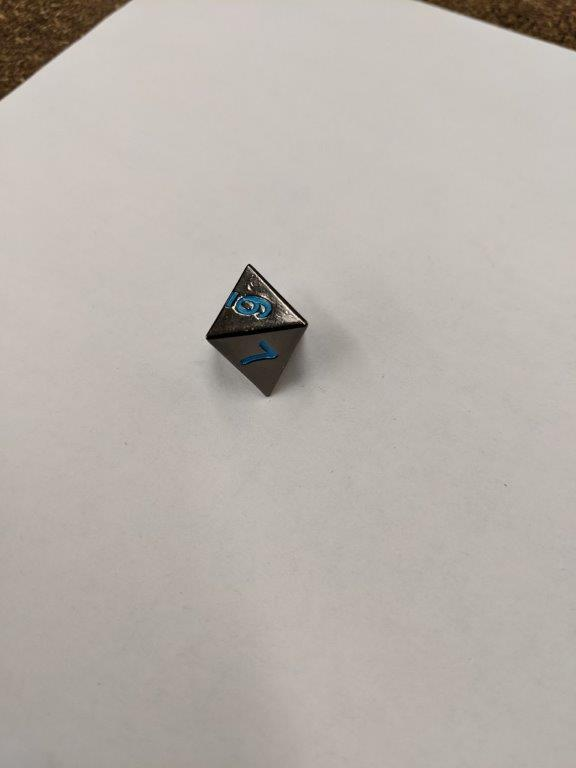d8-6: (204, 261, 310, 401)
